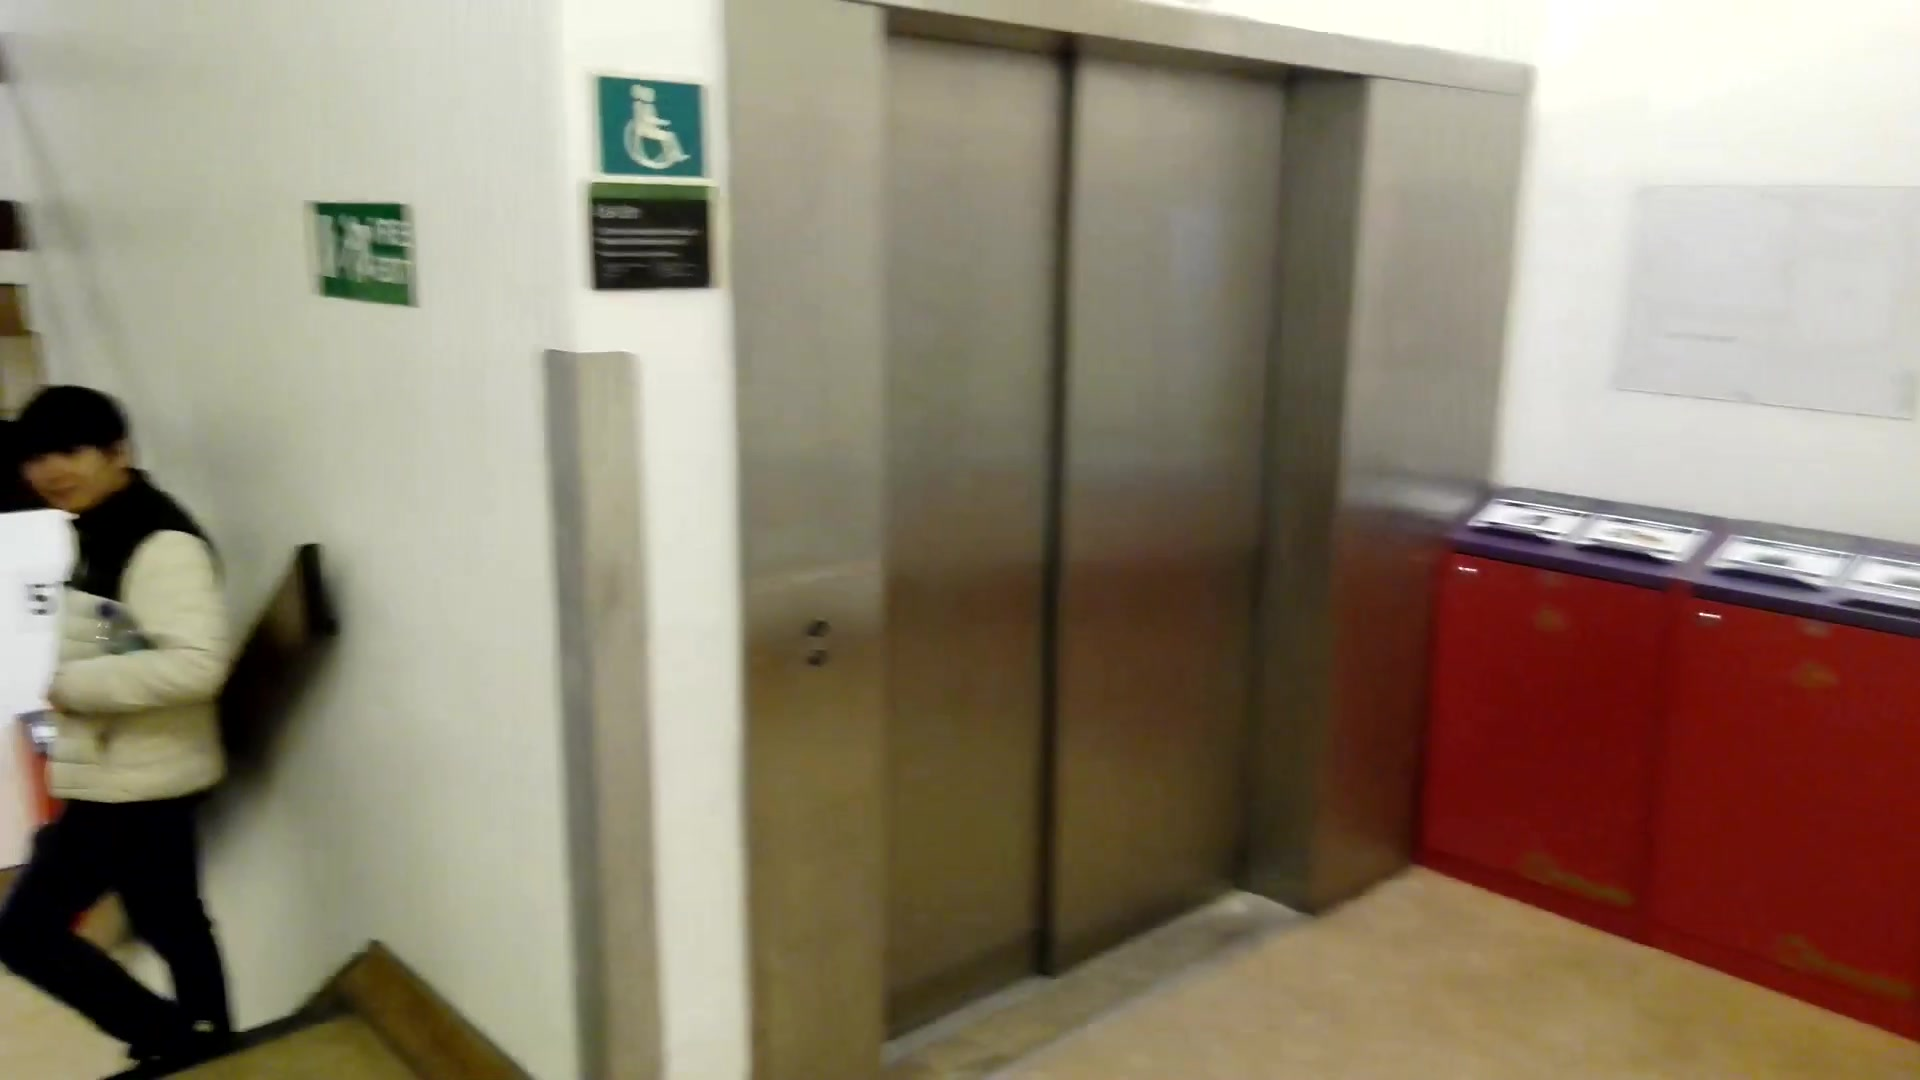Bin: (1425, 473, 1918, 1021)
Person: (6, 378, 252, 1058)
